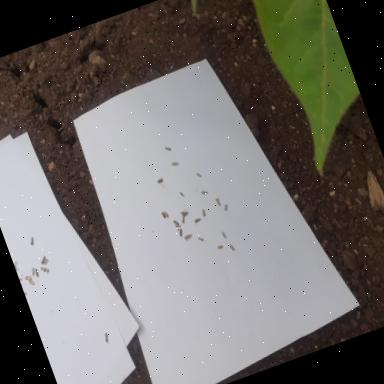pbw: (184, 233, 194, 241), (40, 254, 48, 264), (28, 236, 36, 246), (230, 242, 237, 252), (180, 215, 188, 223), (104, 332, 110, 342), (195, 217, 202, 225), (216, 197, 222, 206), (34, 268, 40, 277), (222, 230, 228, 239), (201, 207, 207, 216), (165, 145, 172, 152), (174, 218, 180, 226), (180, 208, 188, 214), (182, 210, 190, 216), (30, 267, 36, 275), (178, 228, 184, 236), (196, 171, 202, 178), (26, 274, 32, 281), (202, 189, 209, 195), (44, 265, 50, 272), (218, 244, 225, 250), (164, 210, 169, 218), (28, 280, 34, 286), (40, 266, 46, 272), (172, 160, 178, 166), (198, 236, 204, 242), (224, 204, 230, 210), (158, 178, 164, 184), (180, 191, 185, 198), (176, 223, 182, 228), (162, 212, 166, 219)
